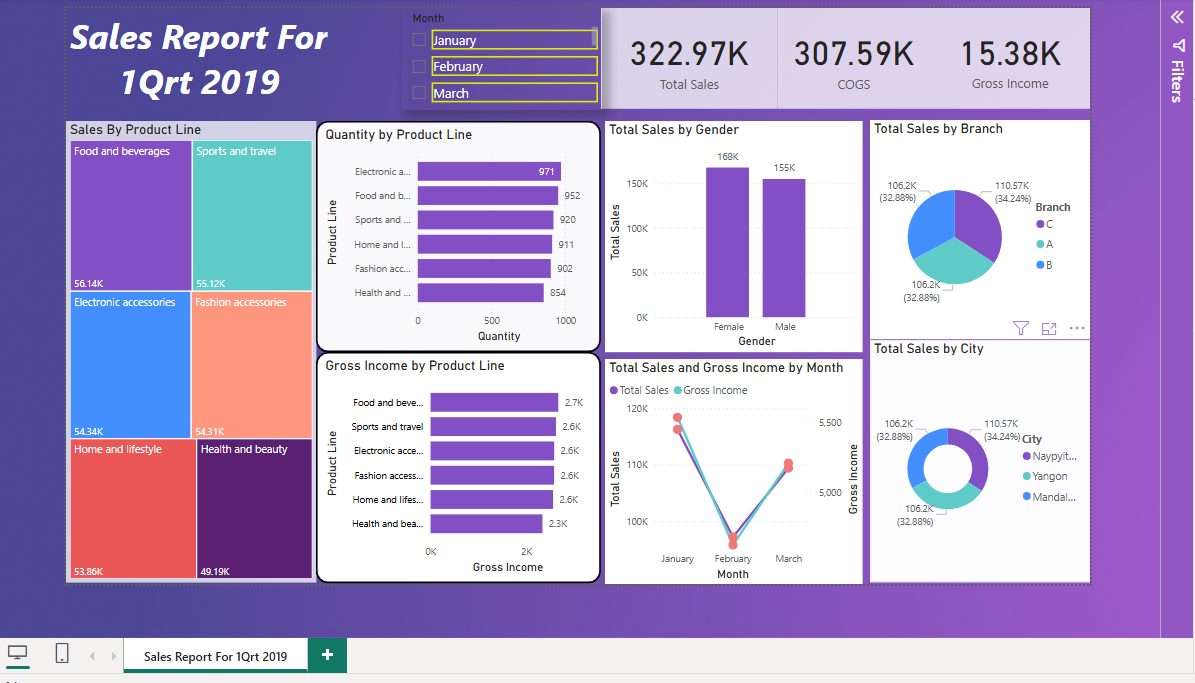

The dashboard page shown, as its layout file describes it:
{"tool":"powerbi","page":{"name":"Sales Report For 1Qrt 2019","canvas":[1280,720],"ordinal":0},"visuals":[{"type":"card","fields":{"Values":["Sum(supermarket_sales.Gross Income)"]},"box":[1079.5,0,200.5,126],"z":0},{"type":"card","fields":{"Values":["Sum(supermarket_sales.Cogs)"]},"box":[889.9,0,189.6,126],"z":1000},{"type":"card","fields":{"Values":["Sum(supermarket_sales.Total)"]},"box":[669.1,0,220.8,126],"z":2000},{"type":"pieChart","fields":{"Category":["supermarket_sales.Branch"],"Y":["Sum(supermarket_sales.Total)"]},"box":[1005.1,140.3,274.9,273.7],"z":3000},{"type":"donutChart","fields":{"Y":["Sum(supermarket_sales.Total)"],"Category":["supermarket_sales.City"]},"box":[1005,414.5,275,303.4],"z":4000},{"type":"treemap","title":"Sales By Product Line","fields":{"Values":["Sum(supermarket_sales.Total)"],"Group":["supermarket_sales.Product Line"]},"box":[0,140.9,312.9,577],"z":4001},{"type":"columnChart","fields":{"Y":["Sum(supermarket_sales.Total)"],"Category":["supermarket_sales.Gender"]},"box":[673.2,140.9,322.4,288.5],"z":4002},{"type":"lineChart","fields":{"Y":["Sum(supermarket_sales.Total)"],"Category":["supermarket_sales.Date.Variation.Date Hierarchy.Month"],"Y2":["Sum(supermarket_sales.Gross Income)"]},"box":[673.2,438.9,322.4,281.7],"z":4003},{"type":"barChart","fields":{"Y":["Sum(supermarket_sales.Gross Income)"],"Category":["supermarket_sales.Product Line"]},"box":[312.9,429.4,356.2,288.5],"z":4004},{"type":"barChart","fields":{"Y":["Sum(supermarket_sales.Quantity)"],"Category":["supermarket_sales.Product Line"]},"box":[312.9,140.9,356.2,288.5],"z":4005},{"type":"textbox","box":[0,0,332.4,126.5],"z":4006},{"type":"slicer","fields":{"Values":["supermarket_sales.Date.Variation.Date Hierarchy.Month"]},"box":[419.8,0,249.6,126.5],"z":4007}]}

Visuals, with their boxes on the page's 1280x720 design canvas (x1, y1, x2, y2). These are canvas units, not pixel positions in the 1195x683 screenshot, which may show the page scaled, cropped or inside an application window:
card - Sum(supermarket_sales.Gross Income): Rect(1080, 0, 1280, 126)
card - Sum(supermarket_sales.Cogs): Rect(890, 0, 1080, 126)
card - Sum(supermarket_sales.Total): Rect(669, 0, 890, 126)
pieChart - supermarket_sales.Branch x Sum(supermarket_sales.Total): Rect(1005, 140, 1280, 414)
donutChart - Sum(supermarket_sales.Total) x supermarket_sales.City: Rect(1005, 414, 1280, 718)
"Sales By Product Line" treemap: Rect(0, 141, 313, 718)
columnChart - Sum(supermarket_sales.Total) x supermarket_sales.Gender: Rect(673, 141, 996, 429)
lineChart - Sum(supermarket_sales.Total) x supermarket_sales.Date.Variation.Date Hierarchy.Month: Rect(673, 439, 996, 721)
barChart - Sum(supermarket_sales.Gross Income) x supermarket_sales.Product Line: Rect(313, 429, 669, 718)
barChart - Sum(supermarket_sales.Quantity) x supermarket_sales.Product Line: Rect(313, 141, 669, 429)
textbox: Rect(0, 0, 332, 126)
slicer - supermarket_sales.Date.Variation.Date Hierarchy.Month: Rect(420, 0, 669, 126)
